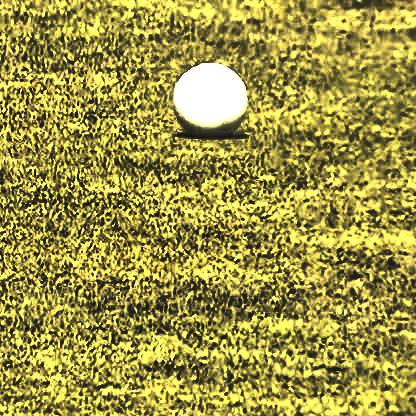golfball: (174, 71, 239, 130)
